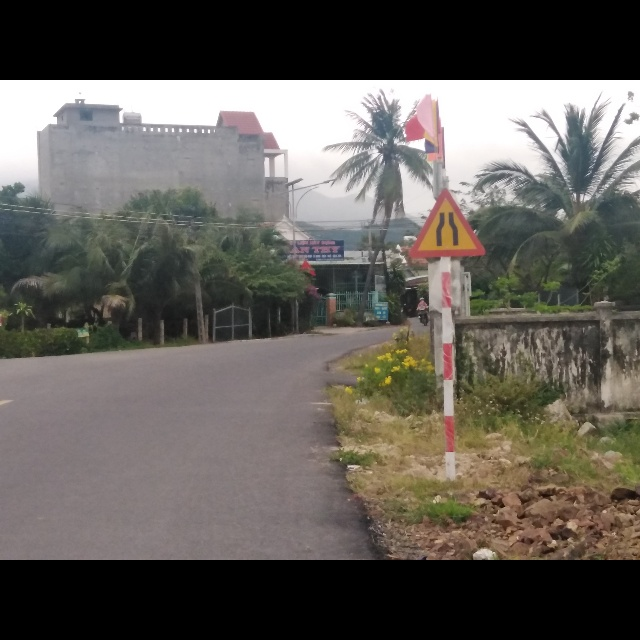Đường bị hẹp cả hai bên: (409, 186, 487, 260)
